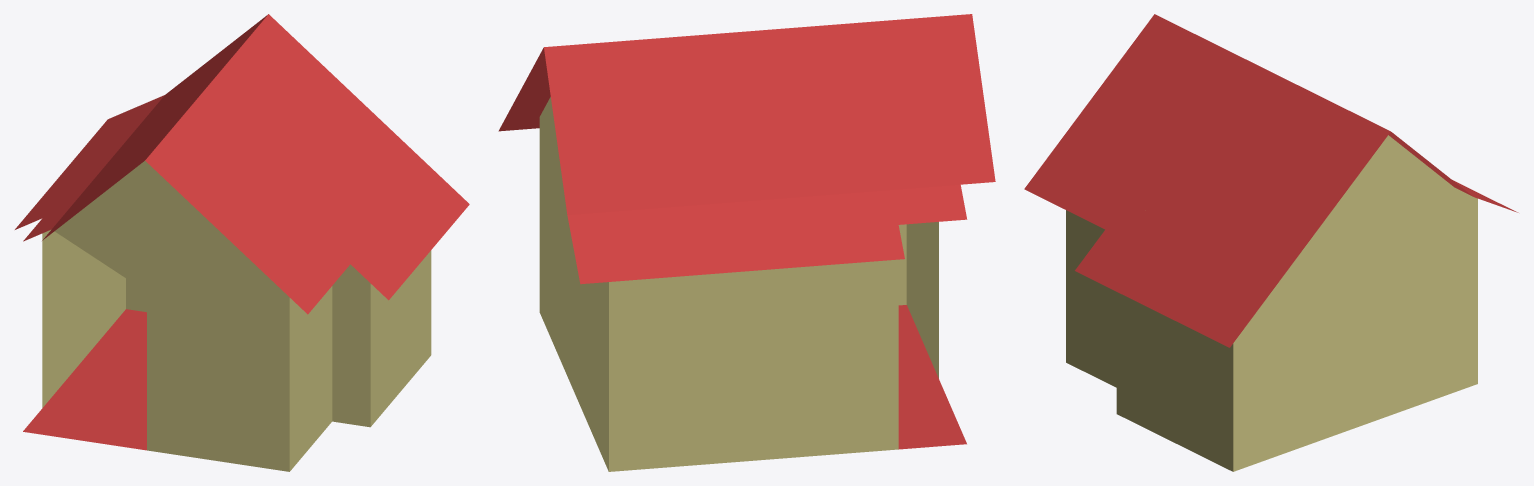
The picture shows the model from 3 angles, left to right: view 1: azimuth 30°, elevation 25°; view 2: azimuth 150°, elevation 25°; view 3: azimuth 270°, elevation 25°; orthographic projection. The views are drawn at different scales.
Bounding box in the file's own units: 16.31 × 16.65 × 11.13.
